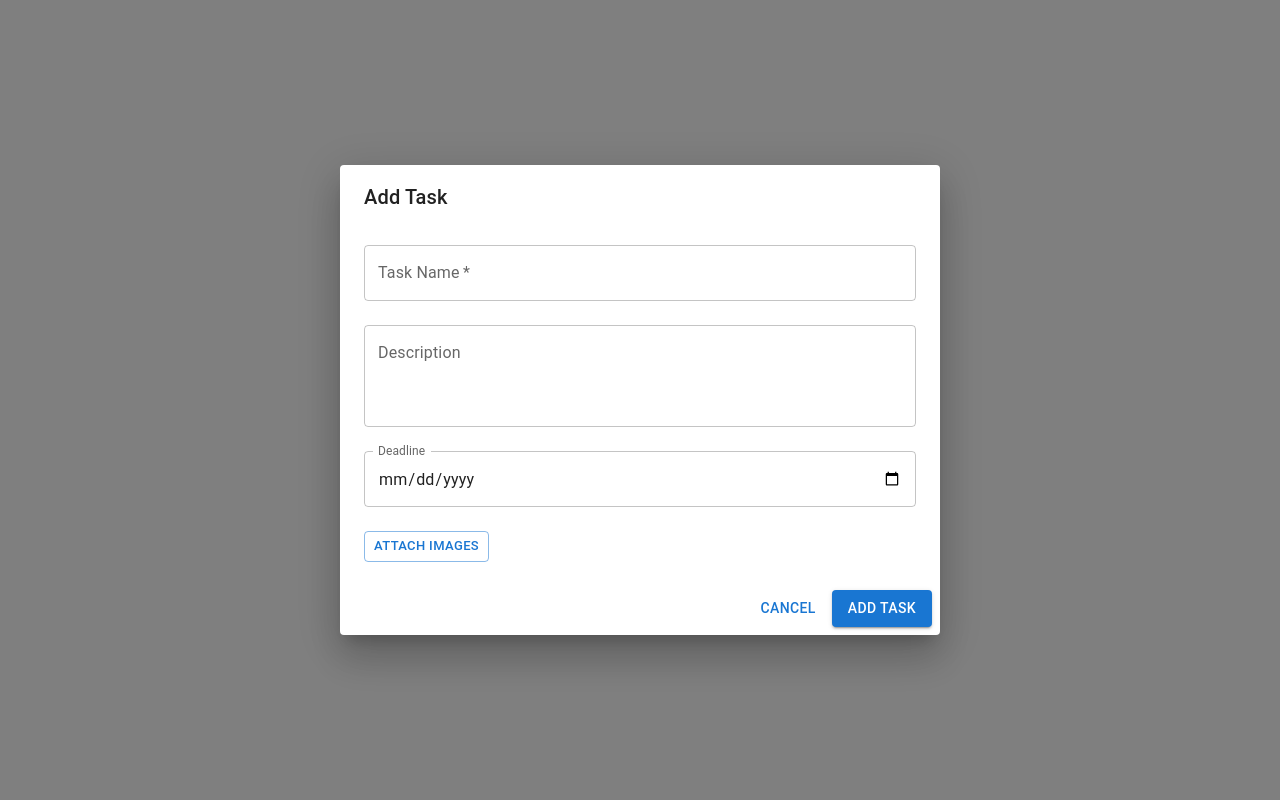
TaskDialog – Add mode › shows an error message when name is blank and submit is attempted
This screenshot has width=1280, height=800.
Click the button with test id "dialog-submit-btn". click: (882, 608)
box: [832,590,932,627]
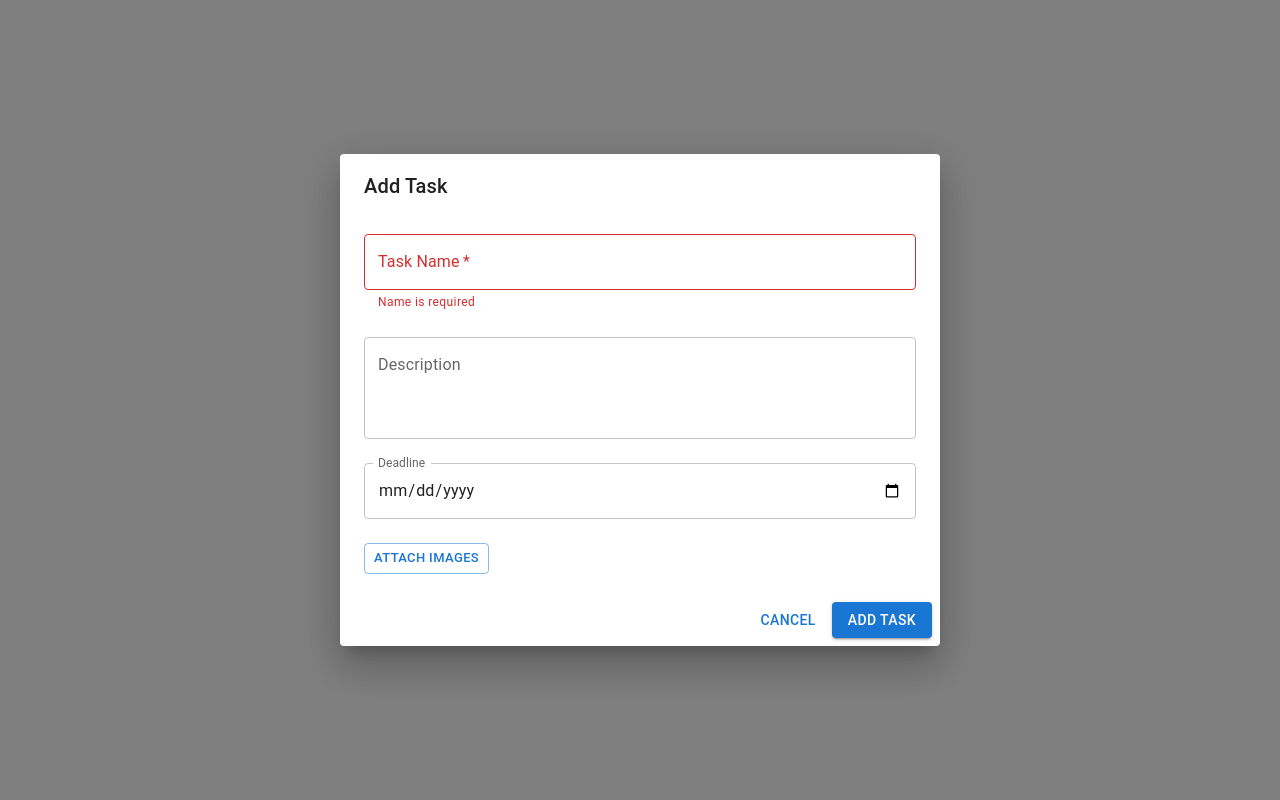
Expected: the text "Name is required" is shown, [378,295,475,309]
